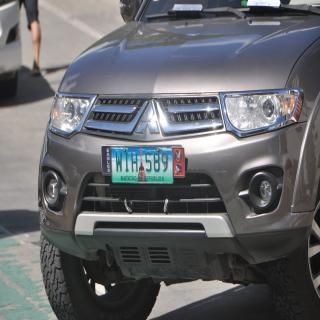license: (112, 147, 174, 184)
